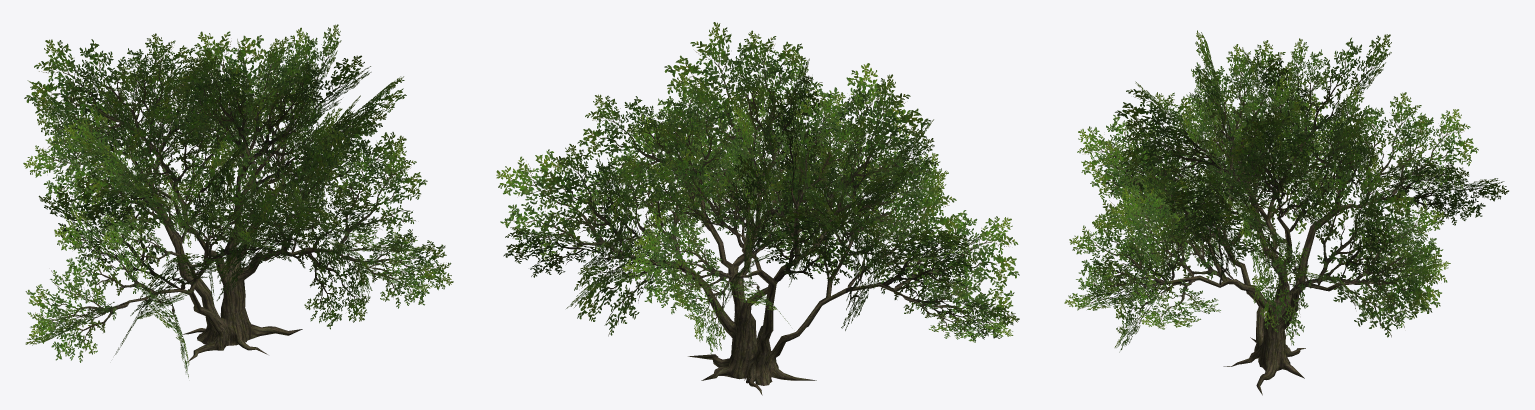
Rendered from cmc_shu06.FBX.
The picture shows the model from 3 angles, left to right: view 1: azimuth 30°, elevation 25°; view 2: azimuth 150°, elevation 25°; view 3: azimuth 270°, elevation 25°; orthographic projection. The views are drawn at different scales.
Visible parts, largest first — view 1: cmc_shuye_b, cmc_shugan_b; view 2: cmc_shuye_b, cmc_shugan_b; view 3: cmc_shuye_b, cmc_shugan_b.
Boxes of the visible parts, bbox=[...] form: cmc_shuye_b: bbox=[23, 24, 453, 377]; cmc_shugan_b: bbox=[118, 138, 350, 361]; cmc_shuye_b: bbox=[496, 22, 1019, 353]; cmc_shugan_b: bbox=[610, 151, 914, 395]; cmc_shuye_b: bbox=[1064, 30, 1508, 352]; cmc_shugan_b: bbox=[1156, 131, 1384, 395].
Bounding box in the file's own units: 2403 × 1638 × 2159.
